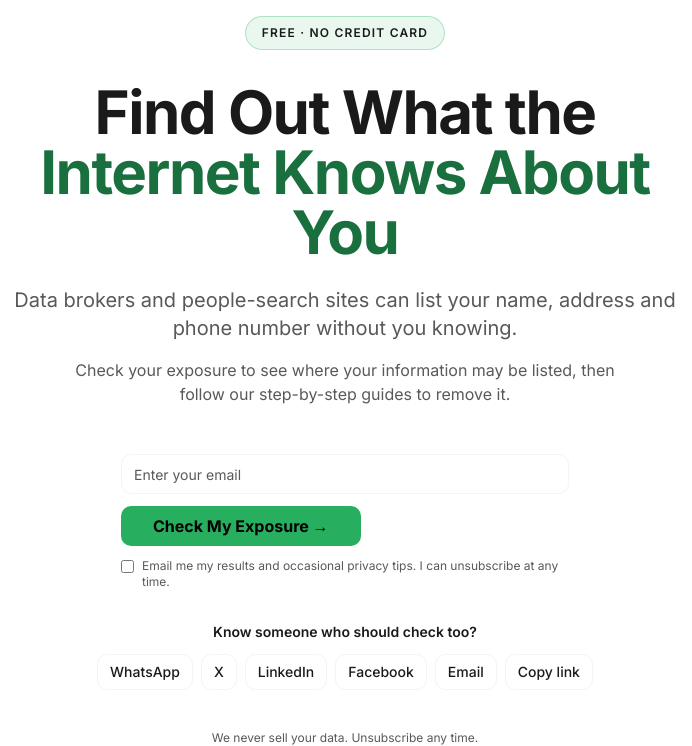
Test: Scan page live view (MPC-8452) › without a key (repeat request, or the feature is off) the thank-you is unchanged and nothing is polled
The image size is (692, 746).
Step 1. Type "live+unit@example.com" into the field named "Email address" → (345, 474), box [121,454,569,494]
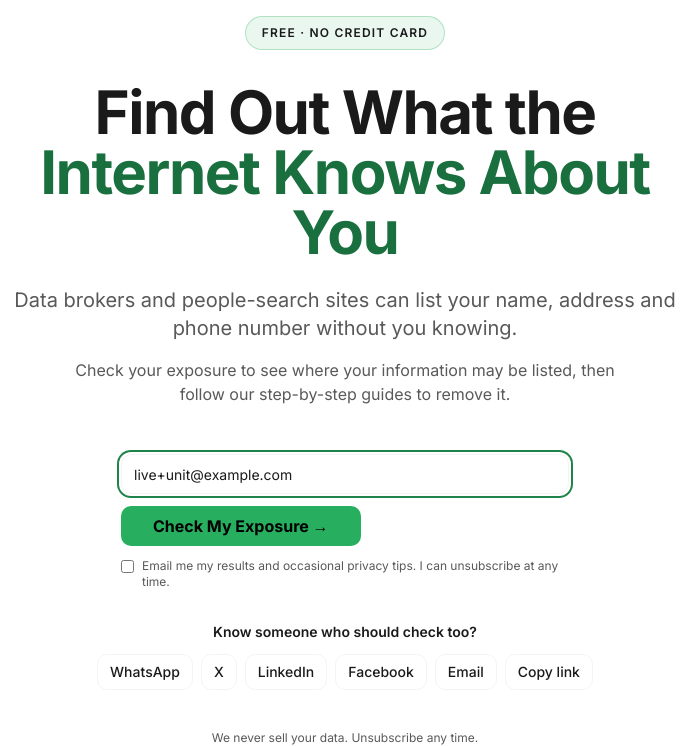
Step 2. Click the checkbox labelled "Email me my results and occasional privacy tips" → (128, 566), box [121,560,134,573]
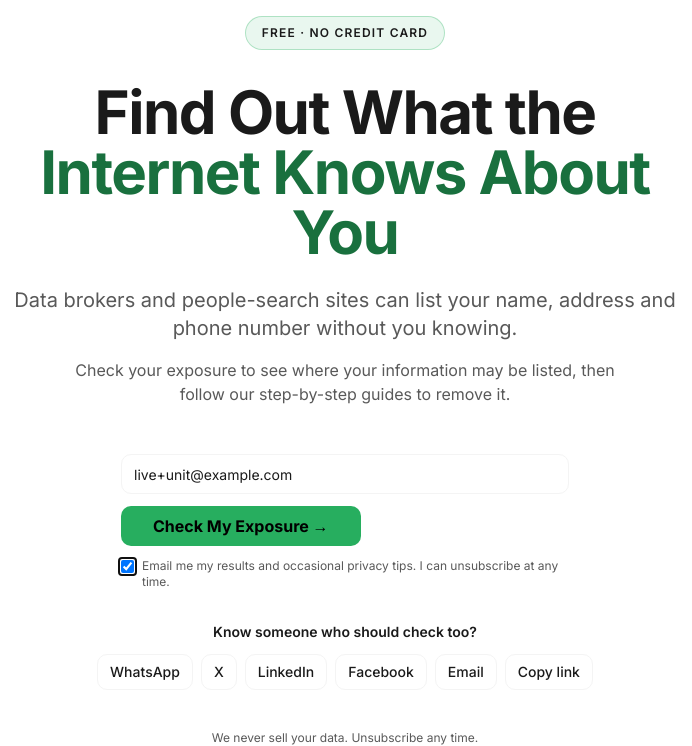
Step 3. Click the button "Check My Exposure →" → (241, 526), box [121,506,361,546]
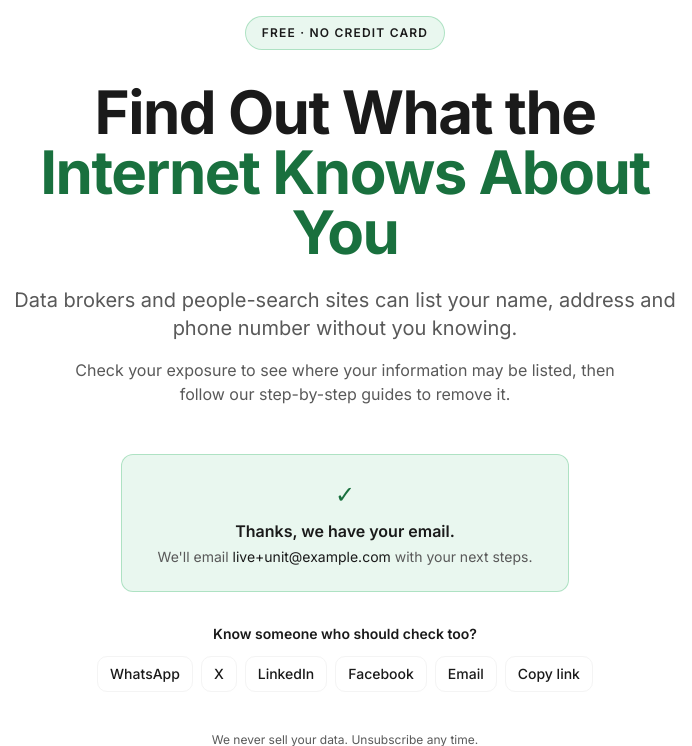
Check: the message shows "we have your email", box [235,521,455,541]
